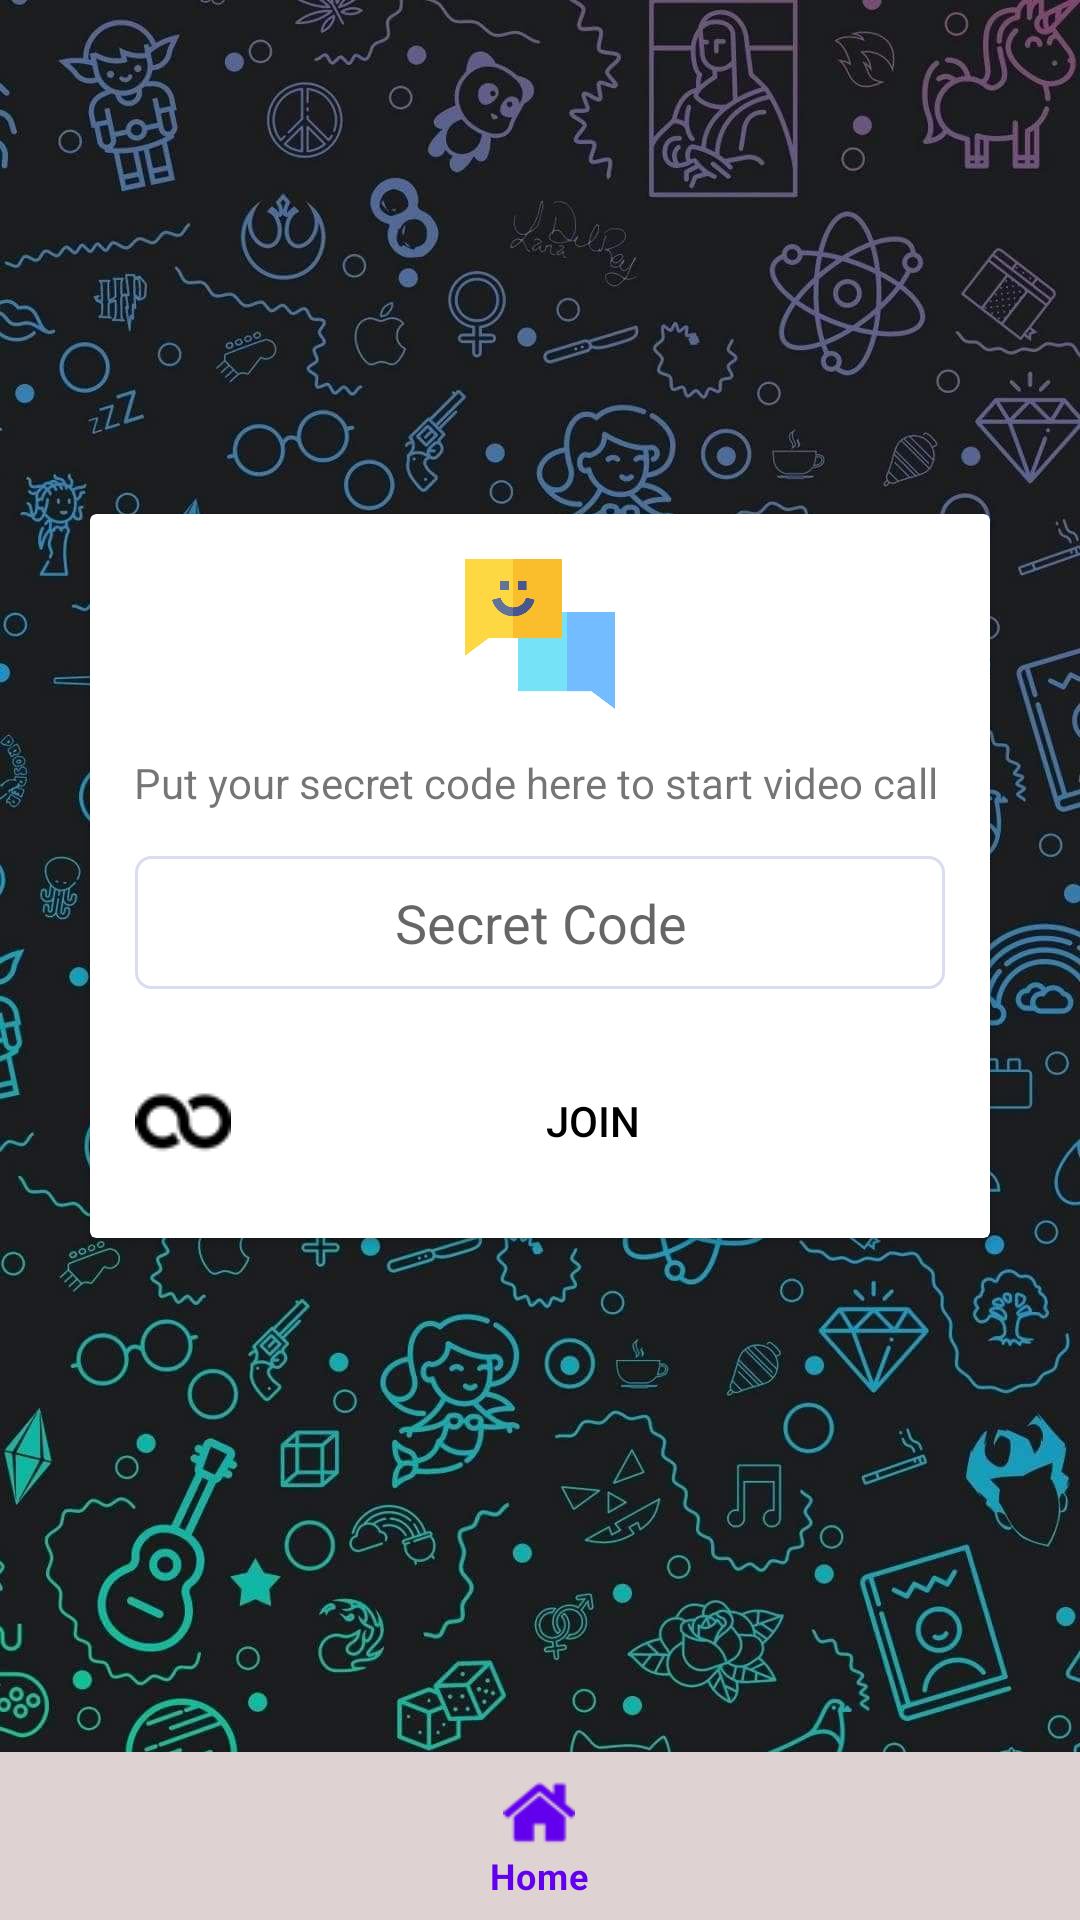

Locate icon controls on the screen. Image size 1080x1920, boxes as BBox(x1, y1, x2, y2).
message: BBox(465, 559, 615, 709)
